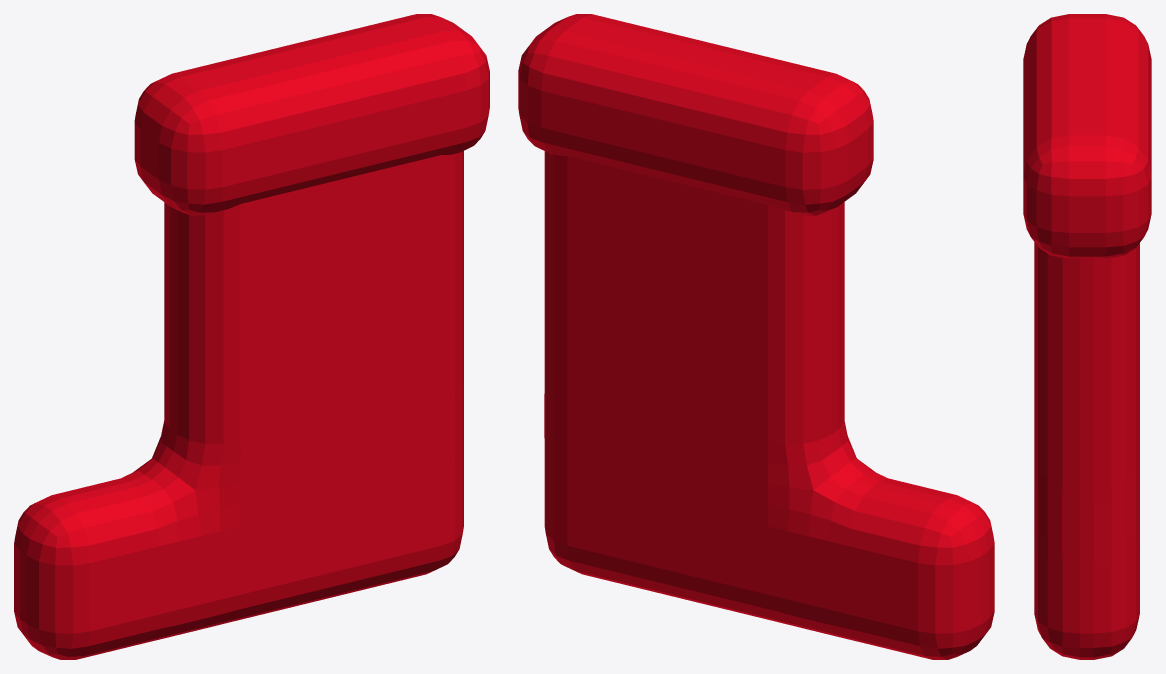
Rendered from stockingOptionalInterest.fbx.
The picture shows the model from 3 angles, left to right: view 1: azimuth 30°, elevation 25°; view 2: azimuth 150°, elevation 25°; view 3: azimuth 270°, elevation 25°; orthographic projection.
Visible parts, largest first — view 1: Cube; view 2: Cube; view 3: Cube.
Part boxes in pixels (x1,y1,x2,y2): Cube: (14,14,489,659); Cube: (518,14,994,659); Cube: (1023,14,1151,659).
Size of the model in its own units: 971 by 1109 by 244.
